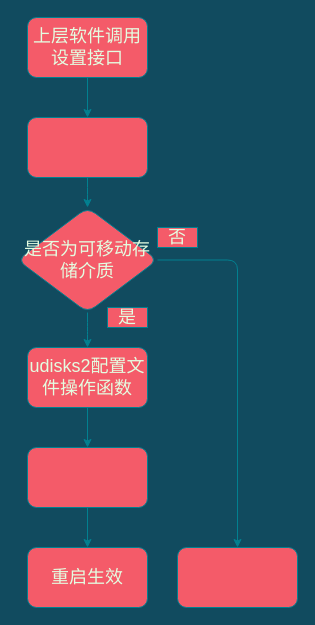
The diagram is 315 pixels wide and 625 high, and some of its shapes have lost their labels. The shapes that lost their labels are listed below. From the top down, each one's box as (x1, y1, x2, y2) in pixels, then its label:
(26, 116, 148, 178): dbus:udisks2配置文件操作接口
(26, 446, 148, 508): 用户自定义文件
(176, 546, 298, 608): 返回错误值
